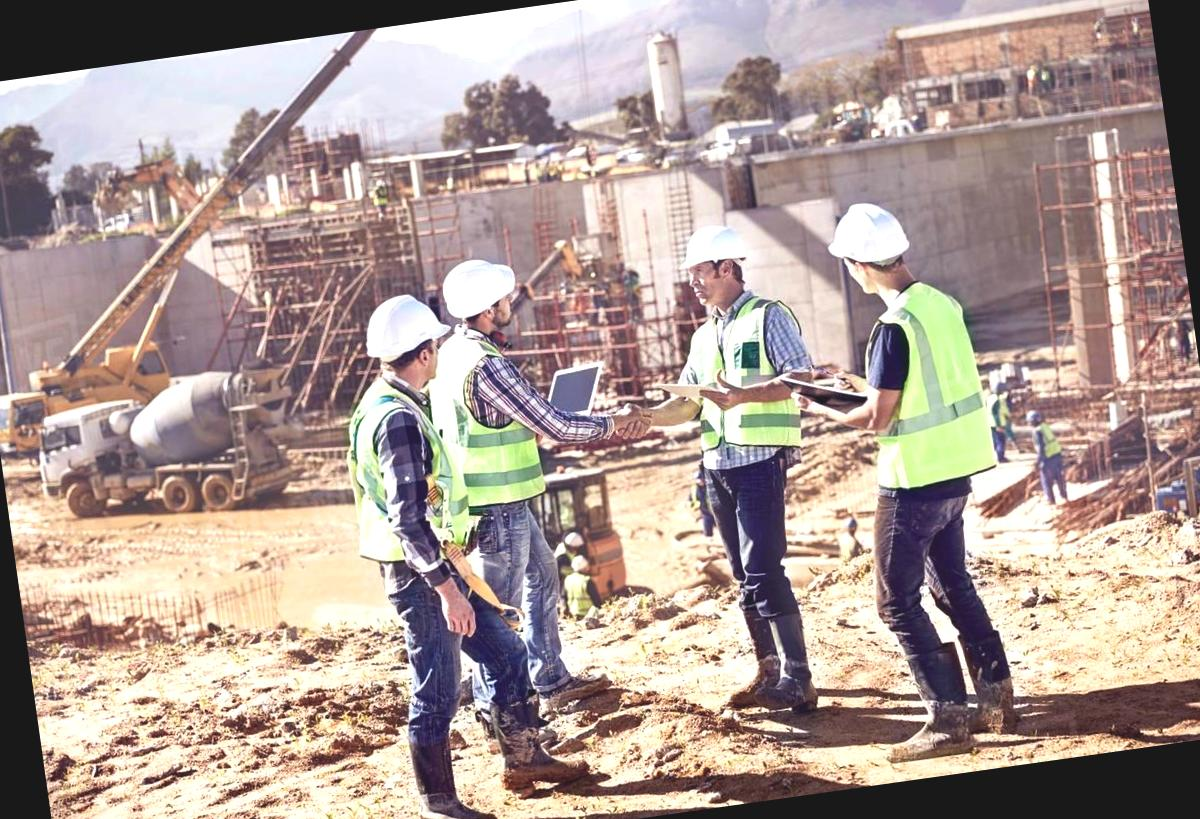helmet: (350, 284, 459, 377), (818, 193, 927, 279), (440, 249, 528, 331), (674, 214, 762, 288)
person: (801, 184, 1046, 770), (645, 220, 867, 738), (326, 272, 522, 819), (429, 235, 609, 705)
